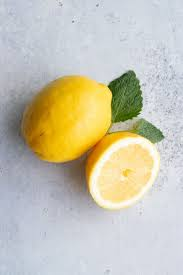lemon: (18, 65, 123, 173)
